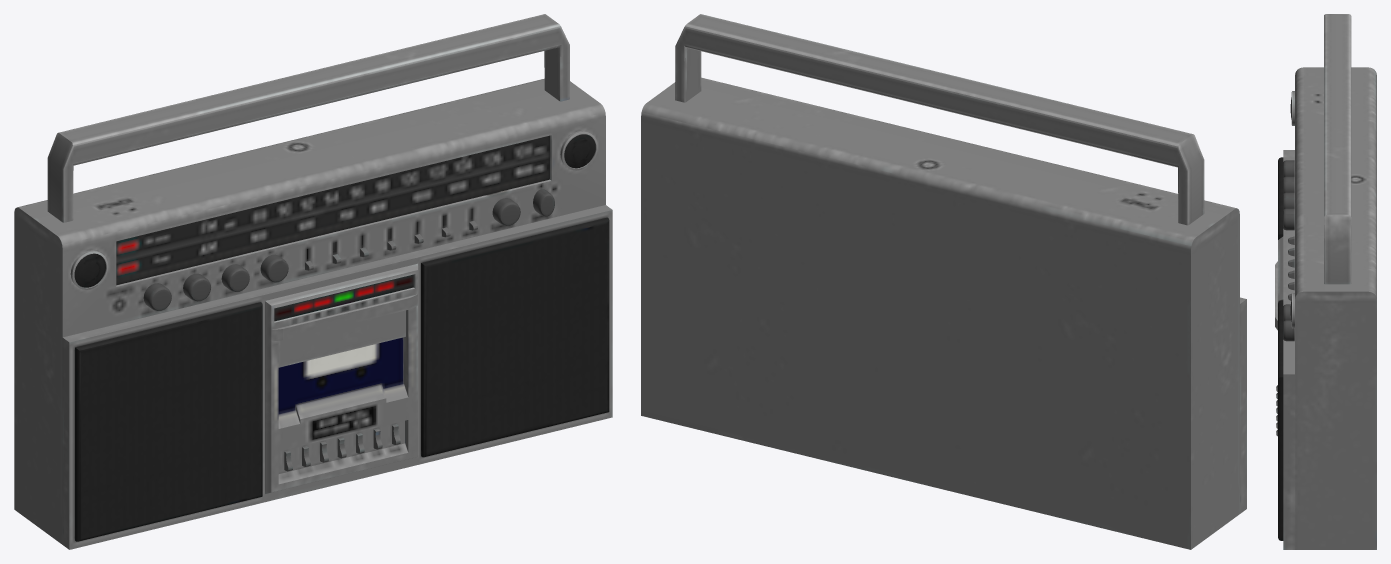
The model's file is SM_prop_Stage1_Radio.fbx.
3 renders of one model, left to right at view 1: azimuth 30°, elevation 25°; view 2: azimuth 150°, elevation 25°; view 3: azimuth 270°, elevation 25°, orthographic. The views are drawn at different scales.
Parts seen in each view (by area): view 1: SM_prop_Stage1_Radio; view 2: SM_prop_Stage1_Radio; view 3: SM_prop_Stage1_Radio.
Boxes of the visible parts, x1,y1,x2,y2 form: SM_prop_Stage1_Radio: [14, 14, 612, 549]; SM_prop_Stage1_Radio: [641, 14, 1246, 549]; SM_prop_Stage1_Radio: [1275, 14, 1376, 549].
Size of the model in its own units: 58.62 by 39.38 by 11.24.
Materials: 1 (1 with a texture image).
